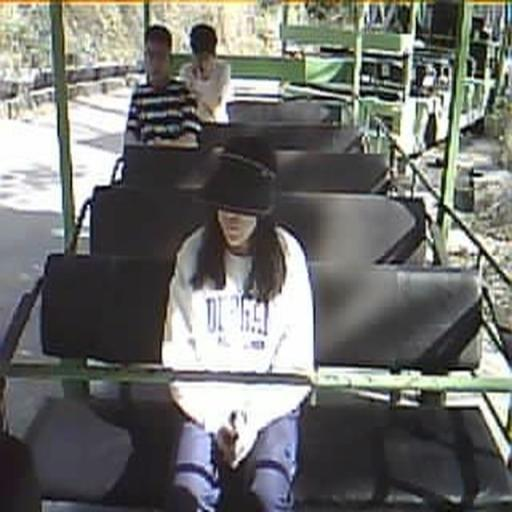persona: (159, 136, 316, 510), (122, 23, 206, 156), (178, 22, 232, 124)
